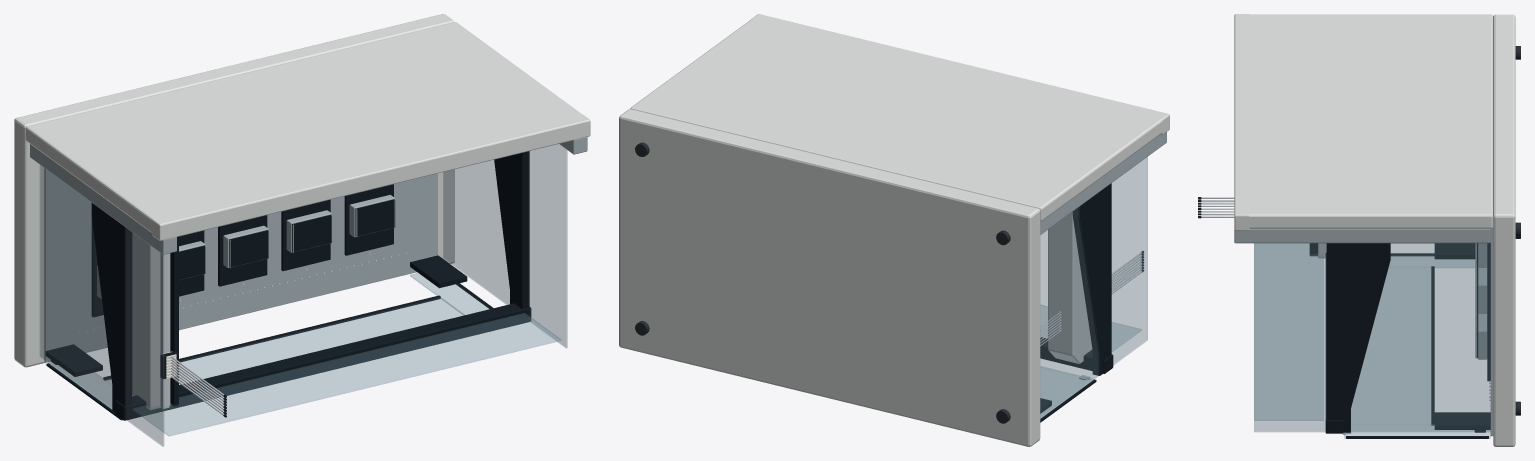
The model's file is tecan_freedom_evo_150.glb.
3 renders of one model, left to right at view 1: azimuth 30°, elevation 25°; view 2: azimuth 150°, elevation 25°; view 3: azimuth 270°, elevation 25°, orthographic. The views are drawn at different scales.
Parts seen in each view (by area): view 1: Full width base chassis, Diluter syringe barrel, Carrier 1 rail, carrier_1_position_1 retaining edge, Carrier locating pin; view 2: Full width base chassis, Diluter syringe barrel, Carrier 1 rail, carrier_1_position_1 retaining edge, Carrier locating pin, Levelling foot; view 3: Full width base chassis, Diluter syringe barrel, Carrier 1 rail, carrier_1_position_1 retaining edge, Carrier locating pin.
Boxes of the visible parts, <box> form: Full width base chassis: <box>14,14,590,409</box>; Diluter syringe barrel: <box>40,144,567,446</box>; Carrier 1 rail: <box>45,151,531,420</box>; carrier_1_position_1 retaining edge: <box>30,137,587,362</box>; Carrier locating pin: <box>78,252,406,414</box>; Full width base chassis: <box>619,14,1169,446</box>; Diluter syringe barrel: <box>1040,157,1147,418</box>; Carrier 1 rail: <box>1040,183,1143,422</box>; carrier_1_position_1 retaining edge: <box>1040,132,1166,380</box>; Carrier locating pin: <box>1040,252,1142,379</box>; Levelling foot: <box>635,142,1010,423</box>; Full width base chassis: <box>1234,14,1515,446</box>; Diluter syringe barrel: <box>1254,243,1490,438</box>; Carrier 1 rail: <box>1198,197,1490,438</box>; carrier_1_position_1 retaining edge: <box>1234,227,1493,436</box>; Carrier locating pin: <box>1201,197,1490,435</box>.
Size of the model in its own units: 1.45 by 0.78 by 0.98.
